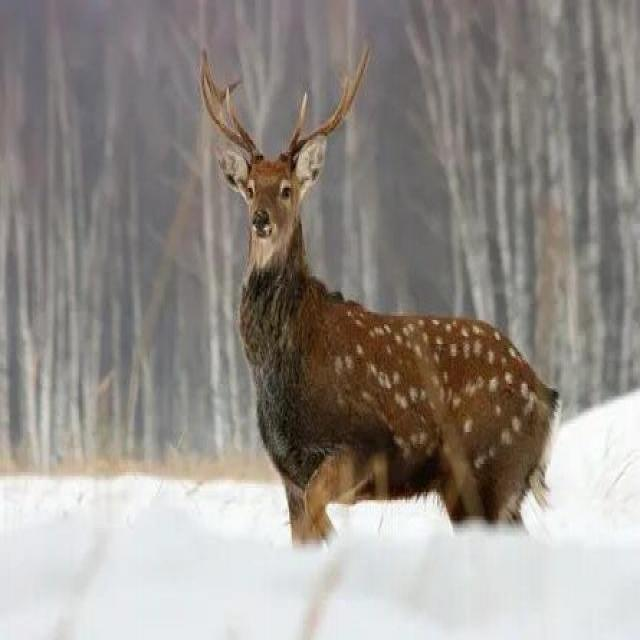deer: (163, 63, 590, 580)
